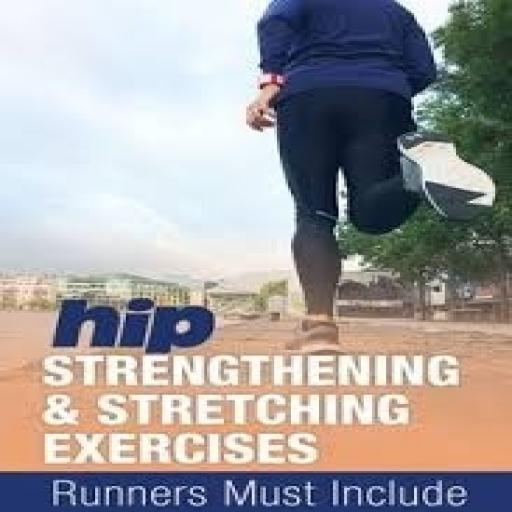running: (241, 0, 442, 354)
